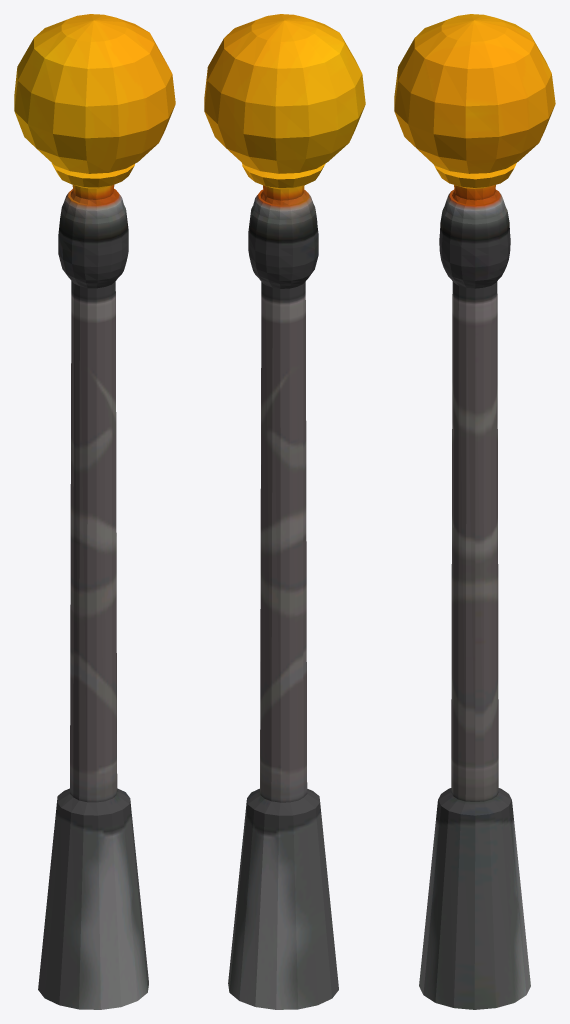
File: Slamp.glb
3 views of the same model, side by side, from view 1: azimuth 30°, elevation 25°; view 2: azimuth 150°, elevation 25°; view 3: azimuth 270°, elevation 25° (orthographic).
Visible parts, largest first — view 1: Slamp; view 2: Slamp; view 3: Slamp.
Part boxes in pixels (bbox=[...]): Slamp: bbox=[14, 14, 175, 1009]; Slamp: bbox=[204, 14, 365, 1009]; Slamp: bbox=[394, 14, 555, 1009].
Size of the model in its own units: 86.24 by 569 by 85.77.
1 material, 1 textured.
